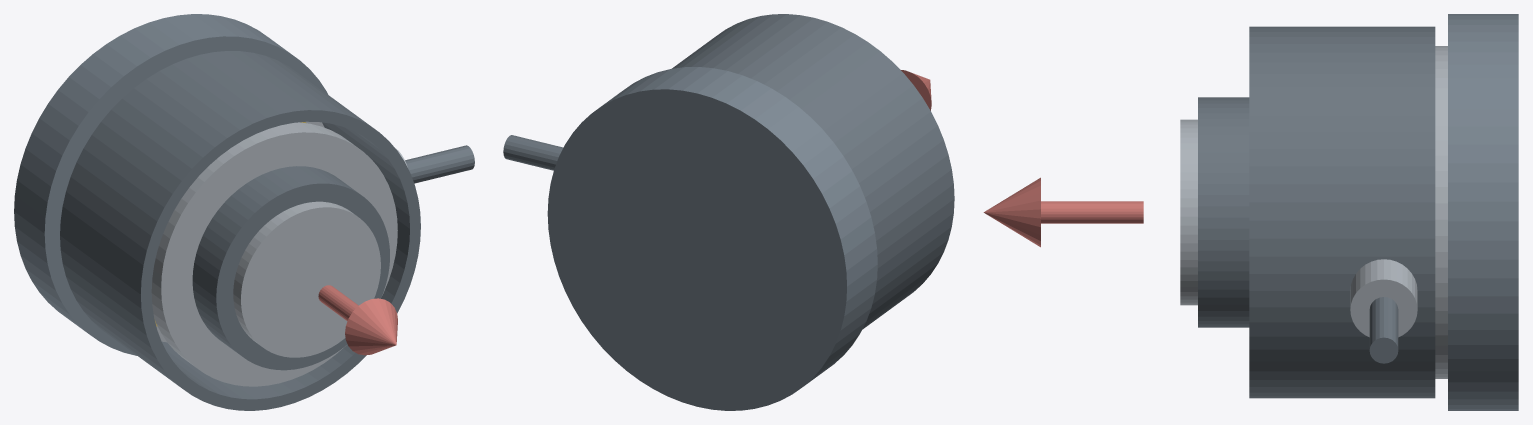
File: piezoelectric-transducer-cutaway.glb
3 renders of one model, left to right at view 1: azimuth 30°, elevation 25°; view 2: azimuth 150°, elevation 25°; view 3: azimuth 270°, elevation 25°, orthographic. The views are drawn at different scales.
Visible parts, largest first — view 1: part_08, part_00, part_05, part_07, part_06, part_09, part_14, part_12, part_13; view 2: part_00, part_08, part_09, part_12, part_14; view 3: part_09, part_00, part_06, part_01, part_11, part_07, part_08, part_13, part_14, part_12.
Boxes of the visible parts, box(x1,y1,x2,y2) form: part_08: box(60, 55, 280, 410); part_00: box(14, 14, 327, 355); part_05: box(151, 122, 397, 386); part_07: box(233, 201, 380, 357); part_06: box(192, 166, 389, 370); part_09: box(200, 51, 420, 406); part_14: box(345, 298, 397, 355); part_12: box(405, 145, 474, 183); part_13: box(318, 285, 358, 320); part_00: box(547, 67, 877, 410); part_08: box(738, 18, 954, 329); part_09: box(671, 14, 813, 73); part_12: box(503, 135, 563, 170); part_14: box(901, 70, 931, 110); part_09: box(1249, 44, 1435, 398); part_00: box(1448, 14, 1518, 410); part_06: box(1198, 97, 1249, 327); part_01: box(1435, 46, 1447, 378); part_11: box(1350, 259, 1417, 337); part_07: box(1180, 119, 1197, 305); part_08: box(1249, 26, 1435, 43); part_13: box(1041, 201, 1143, 223); part_14: box(983, 177, 1040, 247); part_12: box(1369, 297, 1398, 363).
Size of the model in its own units: 1.64 by 1.24 by 1.67.
